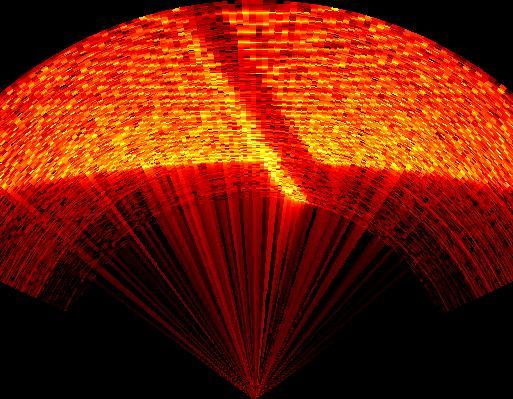pipe: (181, 2, 342, 200)
